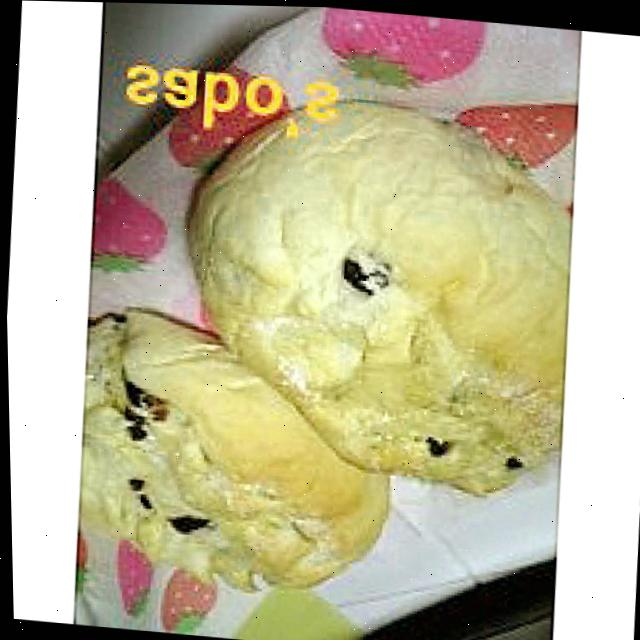面包点心: (23, 68, 603, 640)
